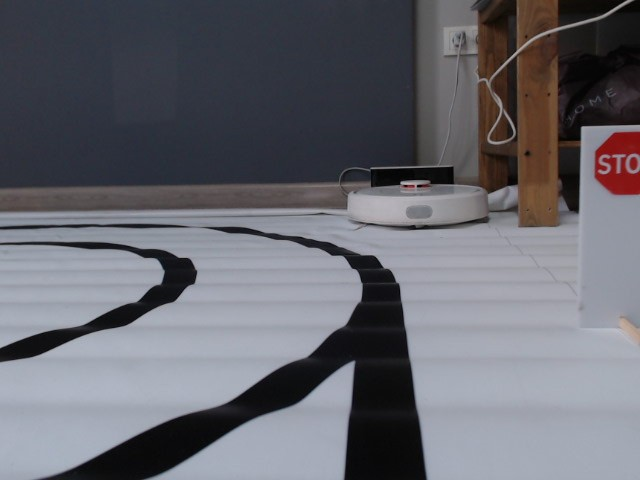Stop: (594, 131, 640, 199)
